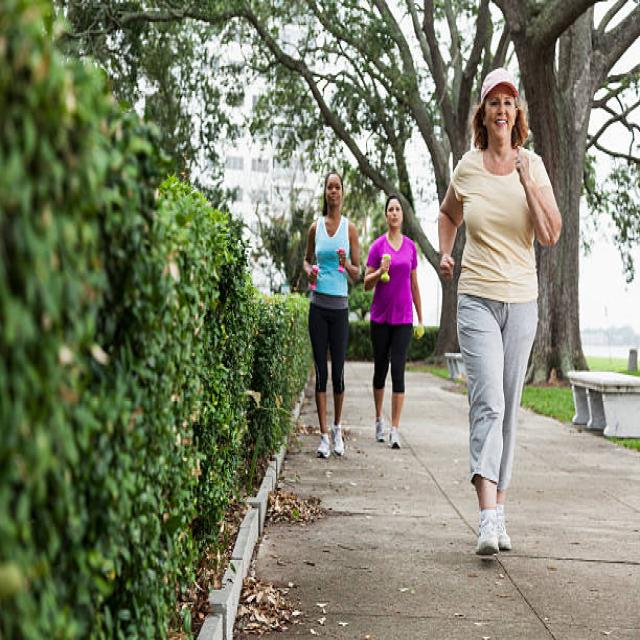Real human 2: (425, 62, 564, 580)
